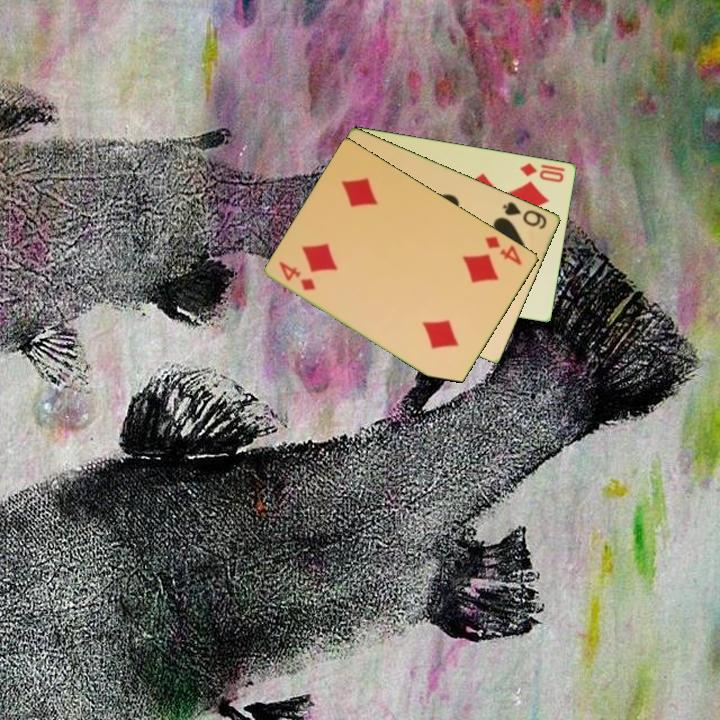10d: (516, 159, 568, 185)
4d: (482, 232, 525, 268), (276, 257, 319, 293)
6s: (499, 198, 550, 232)
